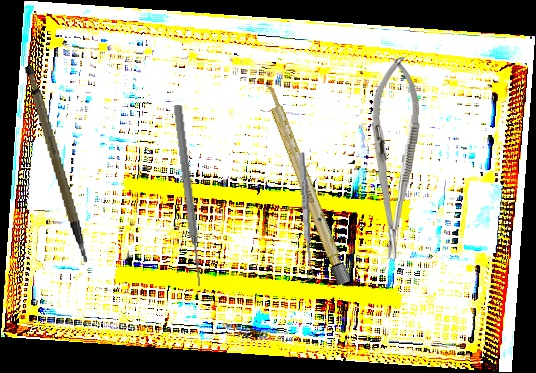Needle Holder: (365, 56, 423, 260)
Pusher: (171, 104, 206, 288)
Scalpel Handle: (260, 80, 351, 286), (21, 61, 89, 268)
Surgical Spoon: (297, 151, 315, 281)
